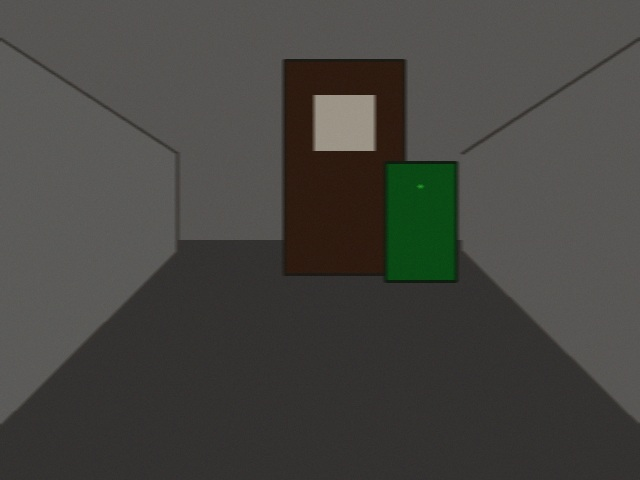charging_station: (385, 162, 456, 281)
door: (284, 60, 404, 274)
